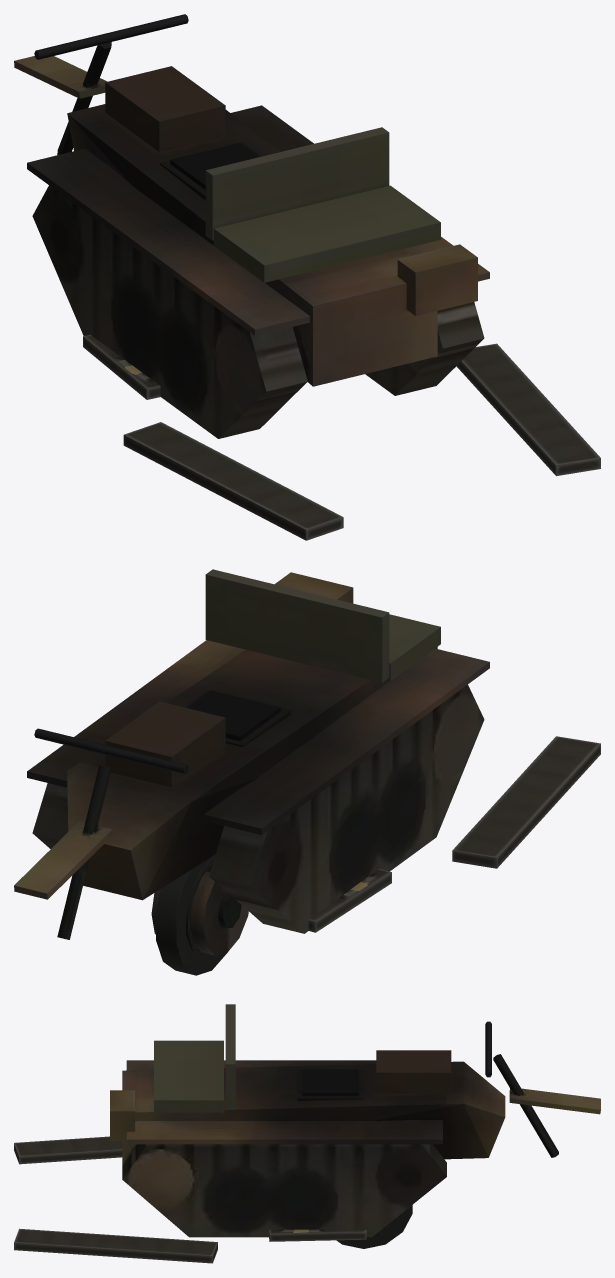
The model's file is kettenkrad.glb.
3 renders of one model, top to bottom at view 1: azimuth 30°, elevation 25°; view 2: azimuth 150°, elevation 25°; view 3: azimuth 270°, elevation 25°, orthographic. The views are drawn at different scales.
Visible parts, largest first — view 1: hull_ko, hull_trackL, hull_trackR; view 2: hull_ko, hull_trackL, wheels_R_12_ko, wheels_L_4_ko, wheels_L_5_ko; view 3: hull_ko, hull_trackR, hull_trackL, wheels_R_12_ko.
Boxes of the visible parts, x1,y1,x2,y2 form: hull_ko: [14, 14, 489, 438]; hull_trackL: [83, 334, 343, 540]; hull_trackR: [456, 343, 600, 476]; hull_ko: [14, 569, 489, 939]; hull_trackL: [308, 736, 600, 932]; wheels_R_12_ko: [156, 854, 226, 975]; wheels_L_4_ko: [159, 864, 241, 955]; wheels_L_5_ko: [151, 875, 248, 955]; hull_ko: [110, 1004, 600, 1237]; hull_trackR: [14, 1228, 366, 1263]; hull_trackL: [14, 1136, 122, 1164]; wheels_R_12_ko: [336, 1205, 412, 1248].
Size of the model in its own units: 1.8 by 1.4 by 3.53.
12 materials, 12 textured.
